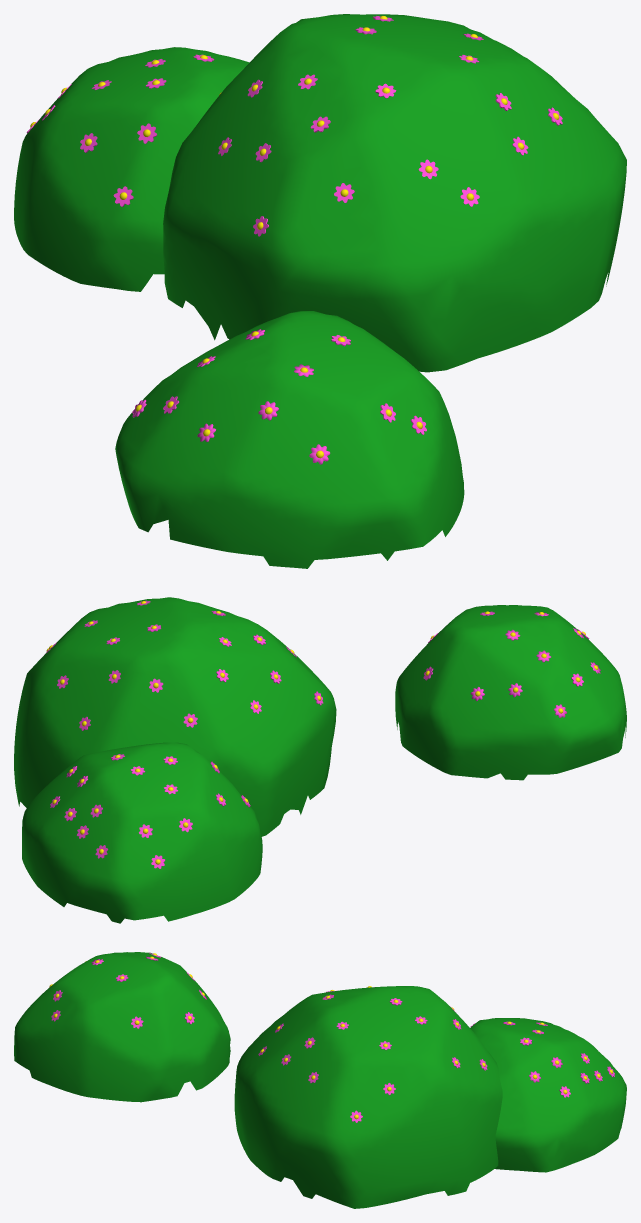
Rendered from flowerbushies_01.fbx.
3 renders of one model, top to bottom at view 1: azimuth 30°, elevation 25°; view 2: azimuth 150°, elevation 25°; view 3: azimuth 270°, elevation 25°, orthographic. The views are drawn at different scales.
Visible parts, largest first — view 1: flowerbushies_01; view 2: flowerbushies_01; view 3: flowerbushies_01.
Part boxes in pixels (x1,y1,x2,y2): flowerbushies_01: (14, 14, 626, 568); flowerbushies_01: (14, 597, 626, 923); flowerbushies_01: (14, 952, 626, 1208).
Bounding box in the file's own units: 137 × 50.99 × 180.
